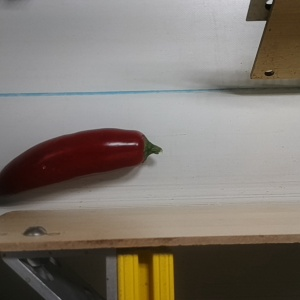Cut Point: (128, 129, 156, 166)
